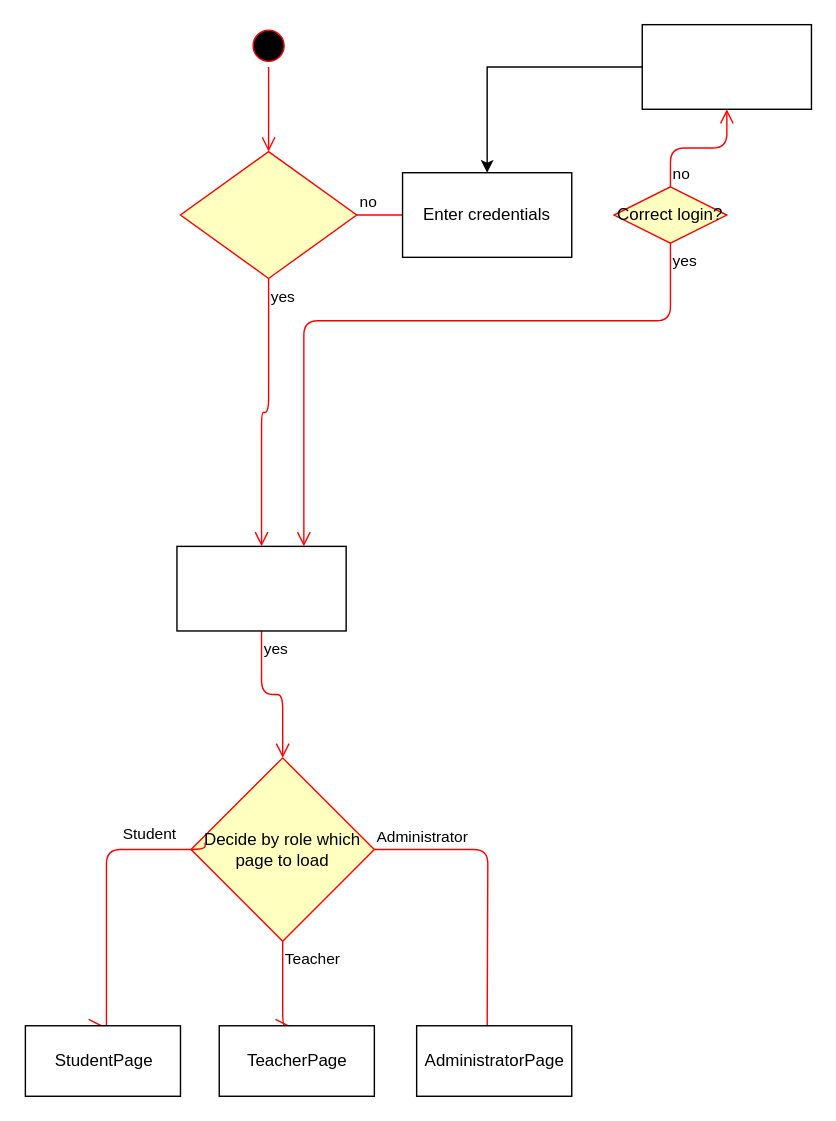
Image size: 836x1121. Some labels were removed from this diagram. Each missing label, with the centre of its shape:
Can login with remember cookie: the point at 268,214
Render error: the point at 726,66
Session is set: the point at 261,588
